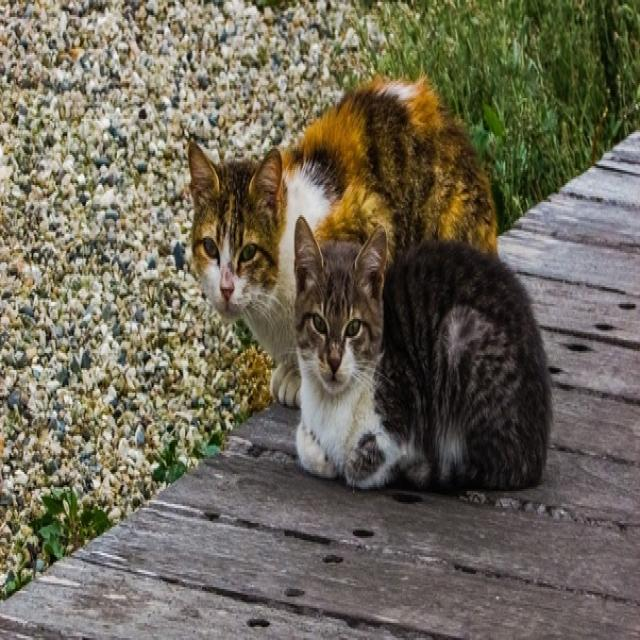cat: (190, 78, 496, 405), (295, 220, 552, 488)
